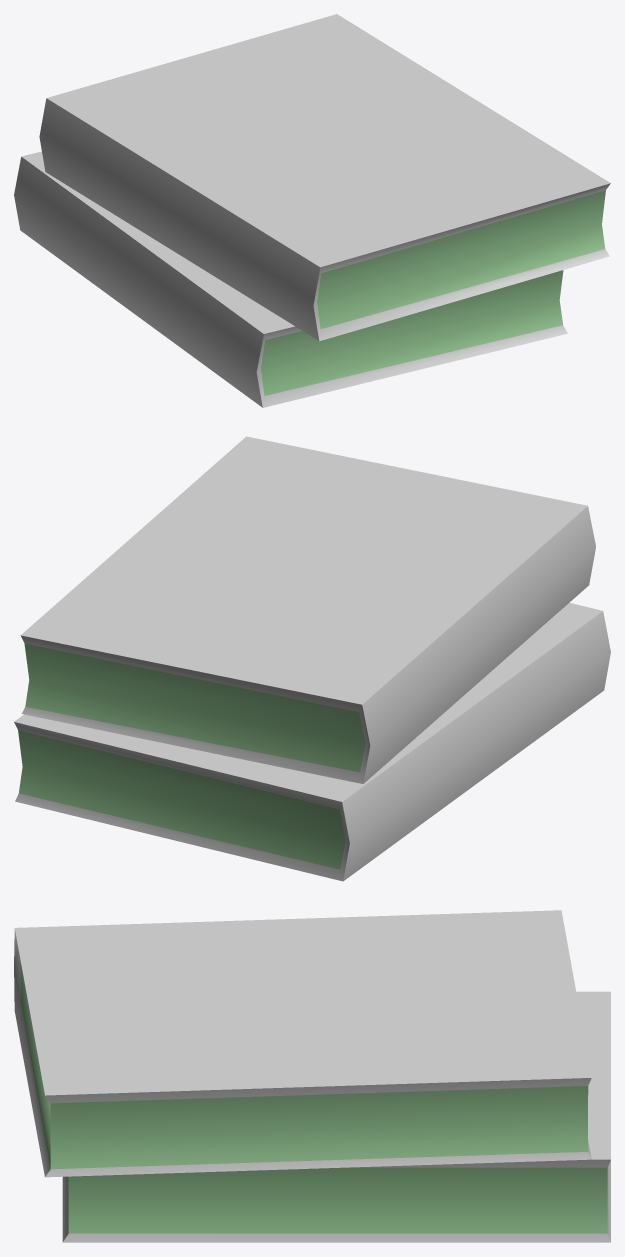
The model's file is SSYXING06.FBX.
The picture shows the model from 3 angles, top to bottom: view 1: azimuth 30°, elevation 25°; view 2: azimuth 150°, elevation 25°; view 3: azimuth 270°, elevation 25°; orthographic projection. The views are drawn at different scales.
Parts seen in each view (by area): view 1: SSYXING06; view 2: SSYXING06; view 3: SSYXING06.
Part boxes in pixels (bbox=[...]): SSYXING06: bbox=[14, 14, 610, 407]; SSYXING06: bbox=[14, 436, 610, 881]; SSYXING06: bbox=[14, 910, 610, 1242].
Size of the model in its own units: 17.65 by 23.3 by 7.18.
